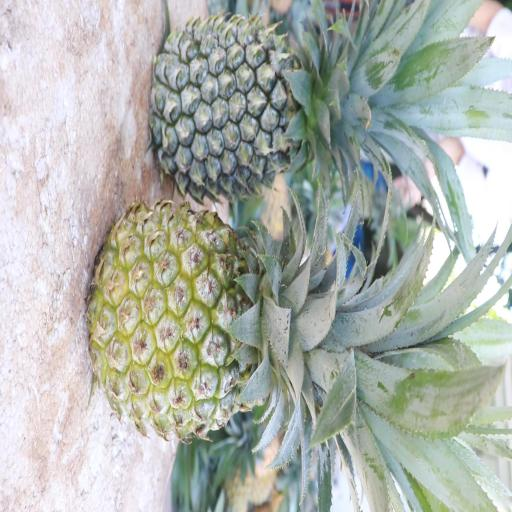------------------------------: (83, 197, 375, 448)
